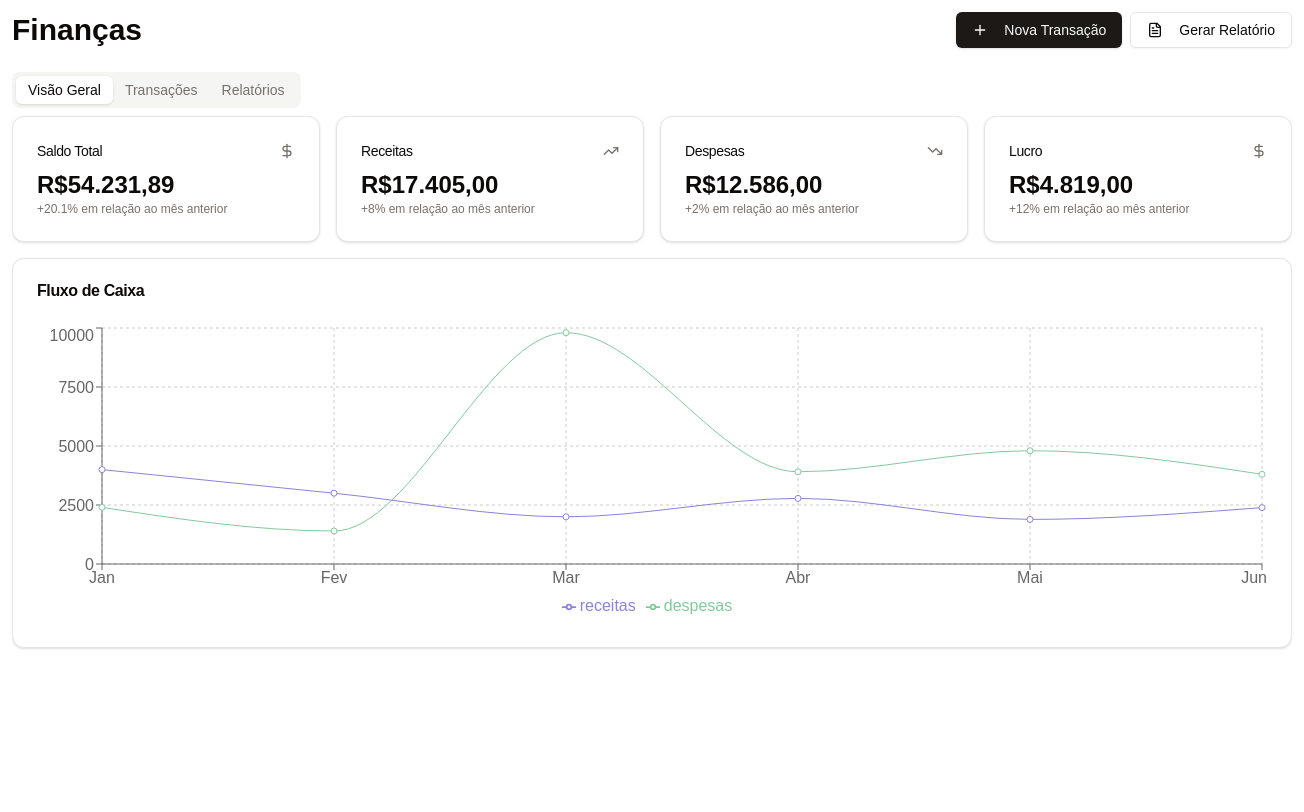
Test: Finance Module › should switch between tabs
Click the tab "Visão Geral" at [65, 90], box [16,76,113,104]
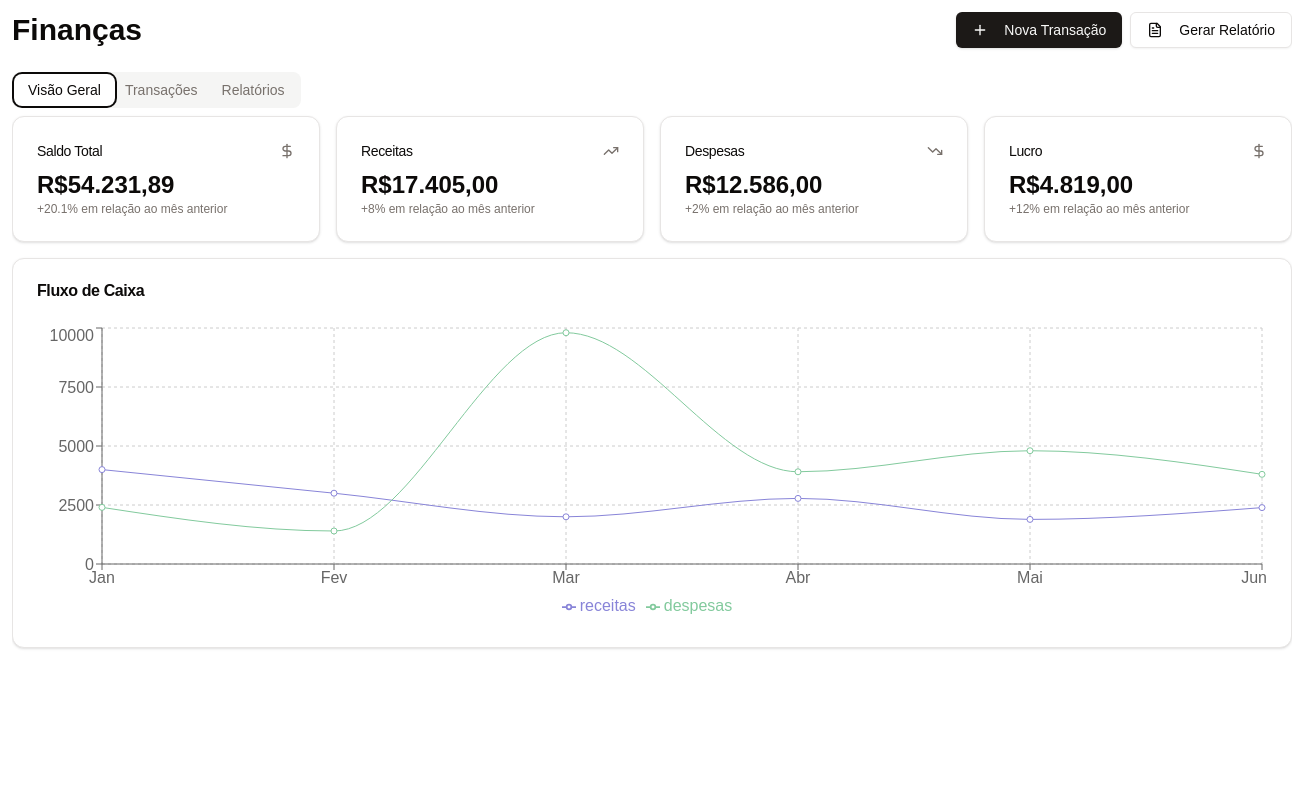
Expected: the heading "Saldo Total" is shown, [37,141,102,161]
Click the tab "Transações" at [162, 90], box [113,76,210,104]
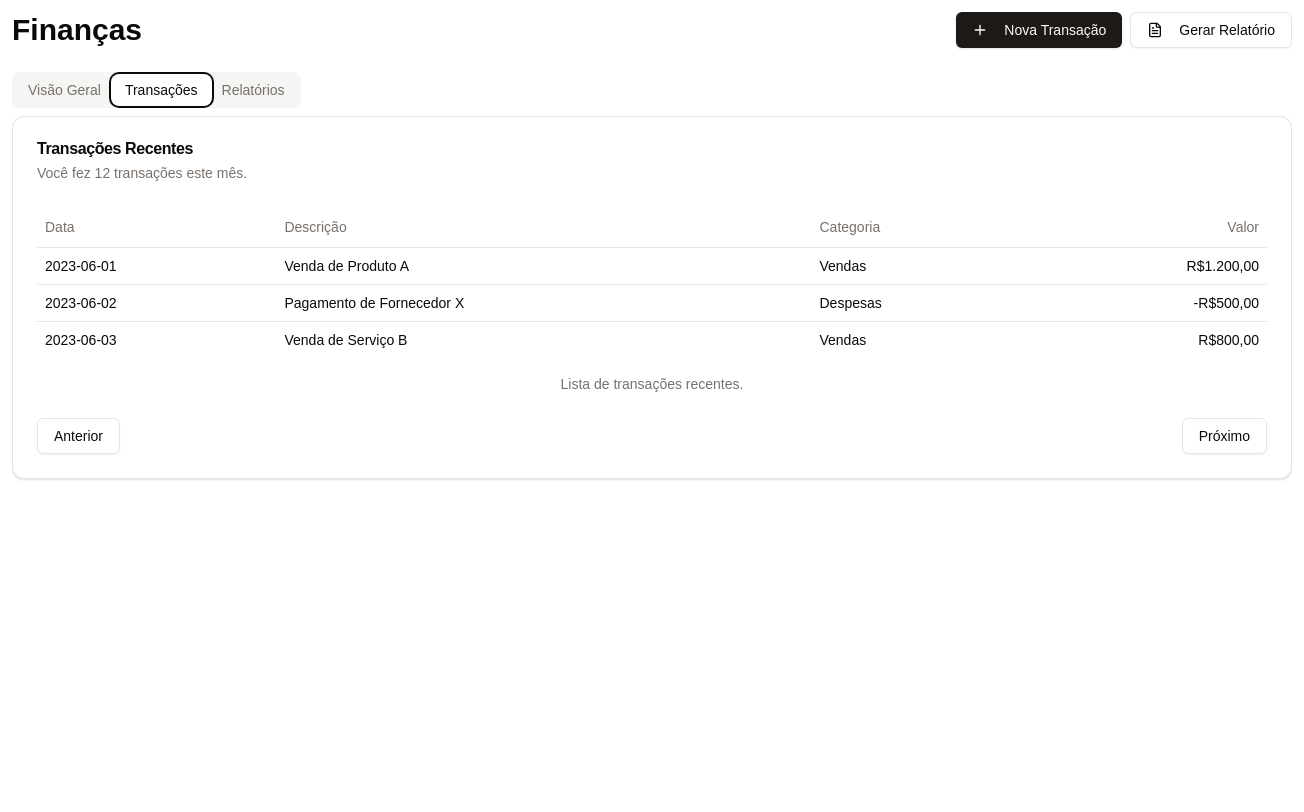
Now the heading "Transações Recentes" is shown, box [37,140,193,157]
Click the tab "Relatórios" at [254, 90], box [210,76,297,104]
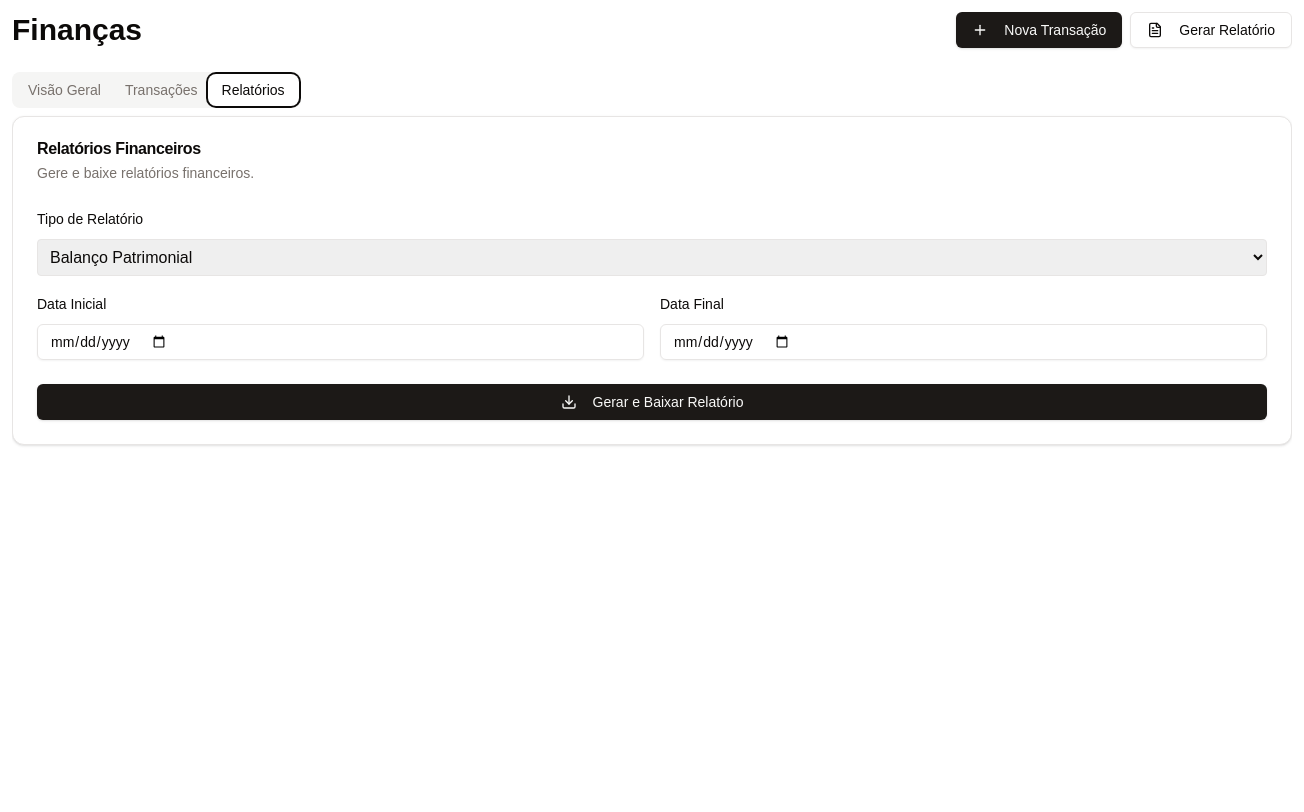
Now the heading "Relatórios Financeiros" is shown, box [37,140,201,157]
